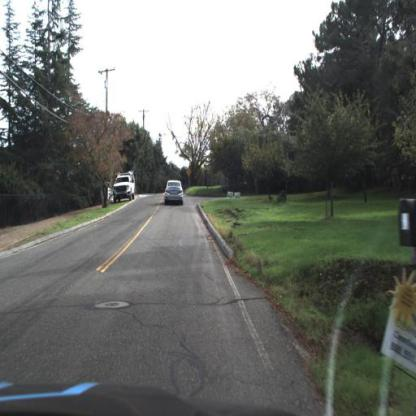car: (161, 176, 186, 207)
truck: (113, 168, 140, 206)
